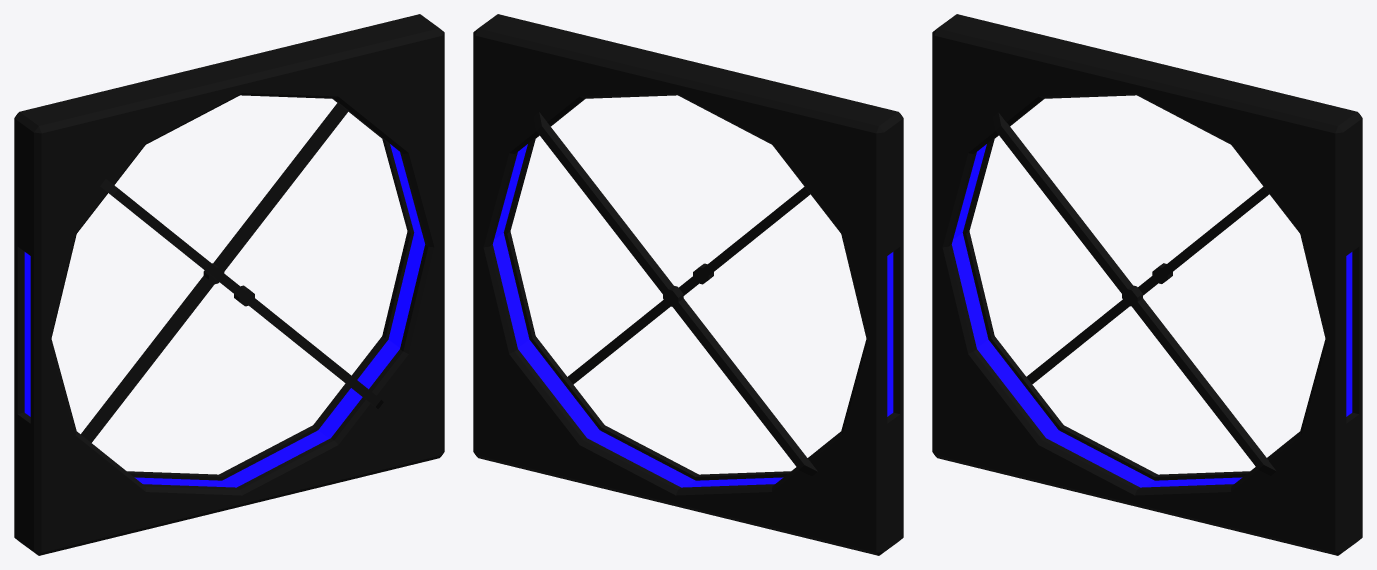
File: pc_fan_case.fbx
3 renders of one model, left to right at view 1: azimuth 30°, elevation 25°; view 2: azimuth 150°, elevation 25°; view 3: azimuth 330°, elevation 25°, orthographic.
Parts seen in each view (by area): view 1: fan.005; view 2: fan.005; view 3: fan.005.
Part boxes in pixels (x1=…): fan.005: x1=14, y1=14, x2=444, y2=555; fan.005: x1=473, y1=14, x2=903, y2=555; fan.005: x1=932, y1=14, x2=1362, y2=555.
Bounding box in the file's own units: 9.75 × 9.75 × 1.47.
